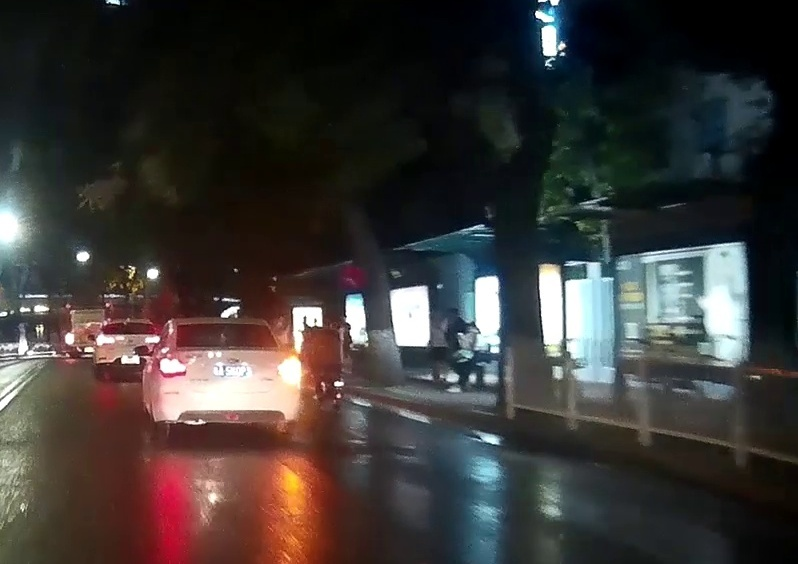L_light: (157, 357, 186, 378)
R_light: (279, 359, 301, 379)
T_light: (215, 324, 236, 328)
night-right: (154, 316, 302, 438)
